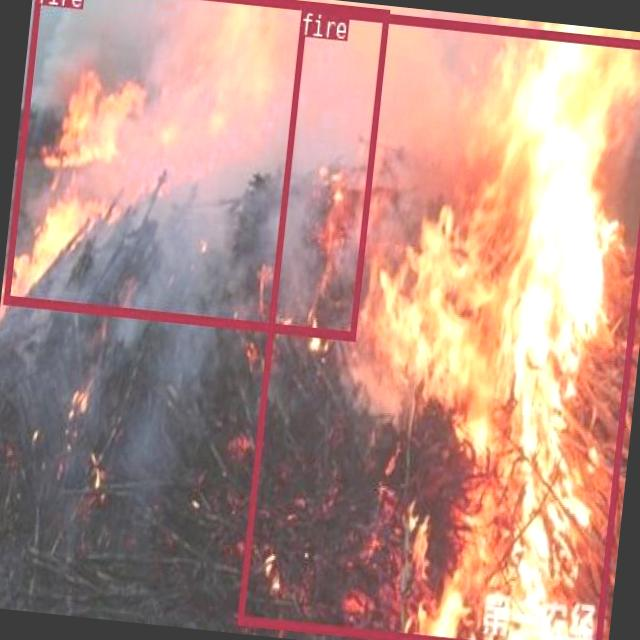fire: (236, 3, 640, 640), (2, 0, 389, 338)
